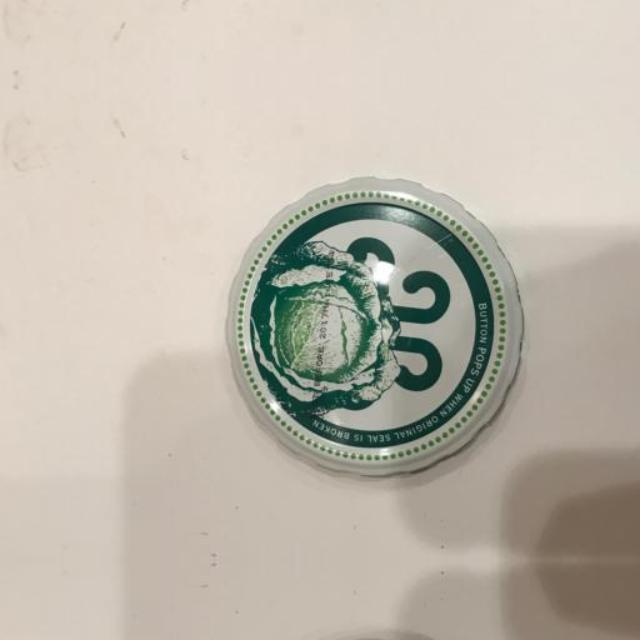Metal: (202, 157, 528, 476), (201, 0, 528, 3)
